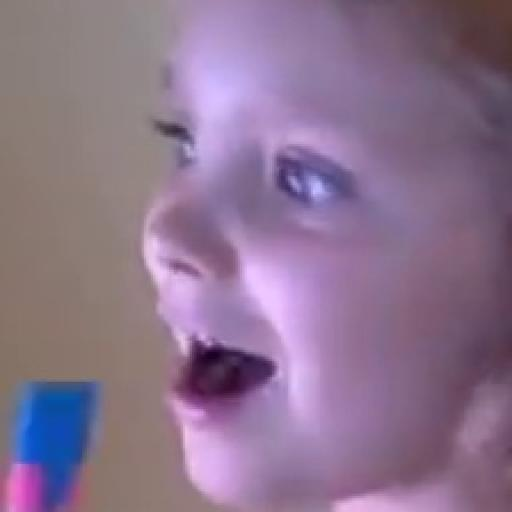Autism: (110, 0, 491, 512)
